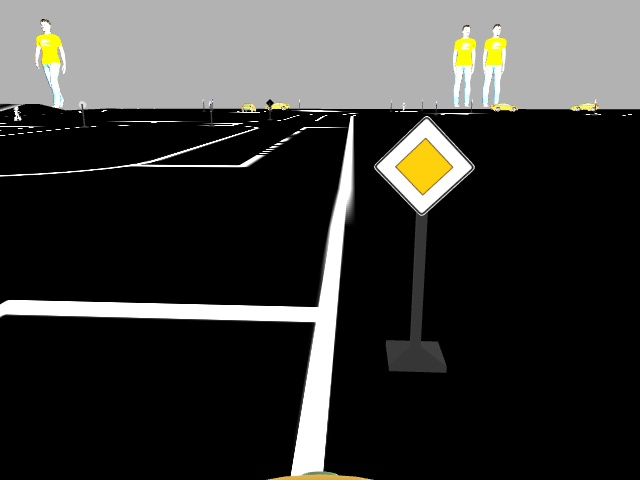Priority: (375, 111, 471, 217)
